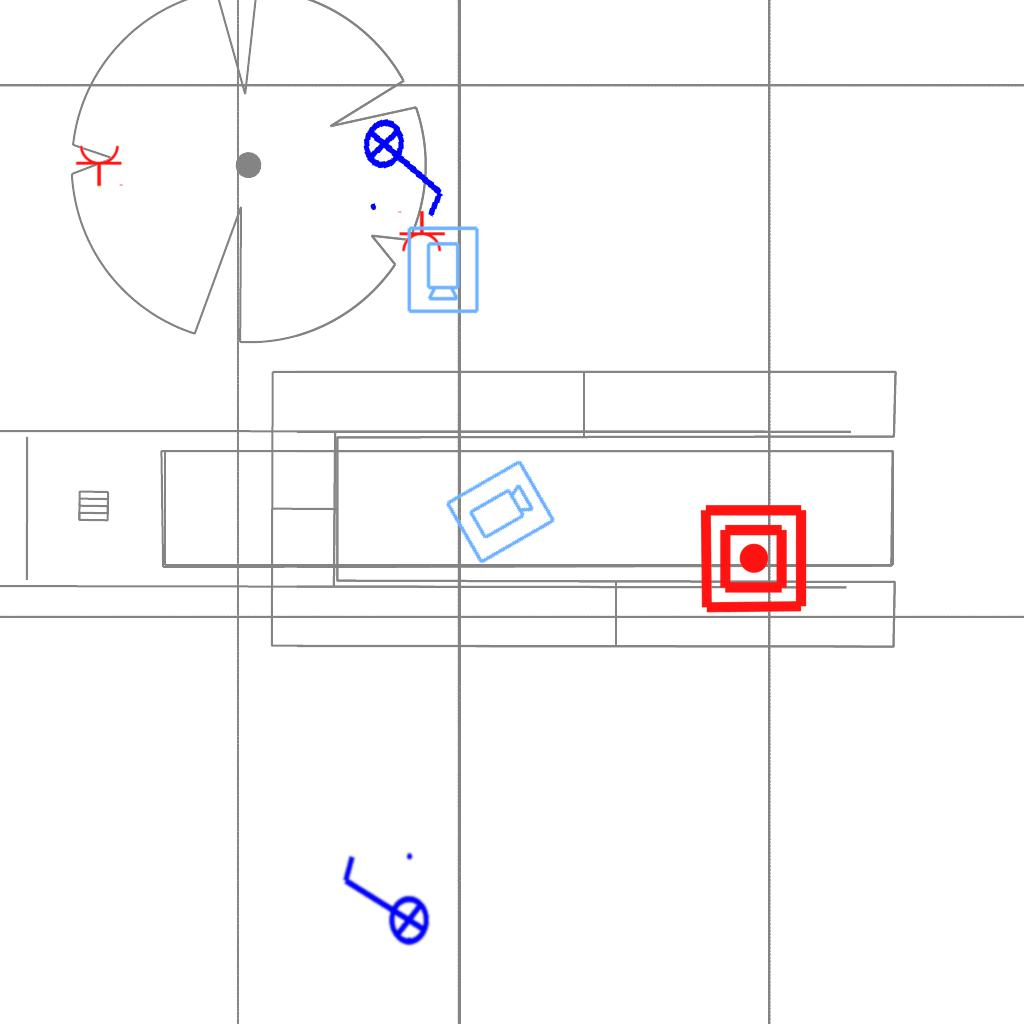Ausschalter_beleuchtet: (350, 102, 464, 228), (335, 847, 431, 959)
KFO_Kamera_mit_Festobjektiv: (441, 456, 560, 569), (404, 224, 481, 315)
NAM-Nichtautomatischer_Melder: (697, 502, 810, 615)
Schukosteckdose_einfach: (396, 210, 446, 253), (75, 144, 125, 187)
